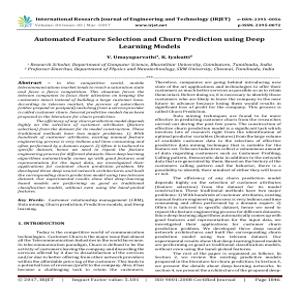image: (14, 14, 35, 30)
text: (153, 78, 284, 276), (15, 79, 146, 273), (31, 33, 268, 61), (22, 61, 277, 77), (34, 14, 282, 29)
